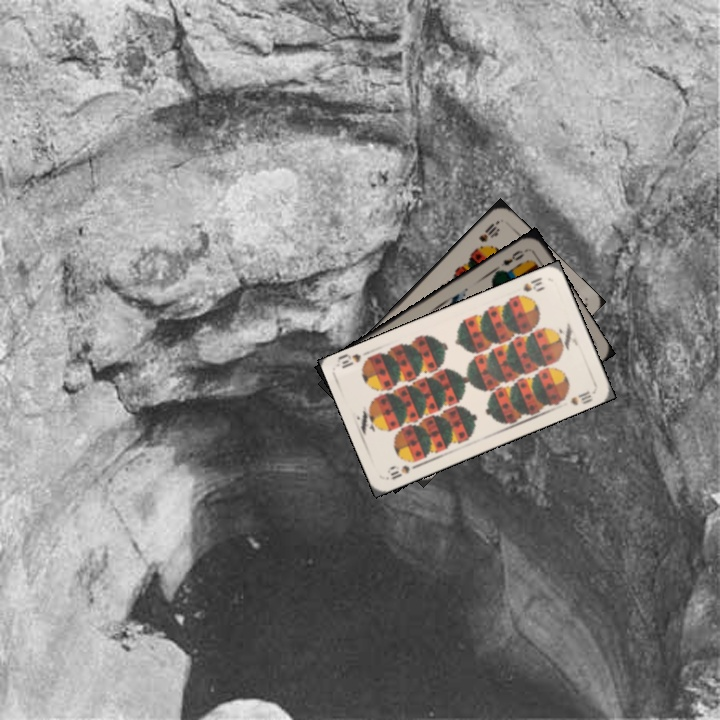EO: (497, 245, 530, 269)
S10: (512, 273, 547, 301), (475, 217, 501, 245), (383, 461, 412, 482)
